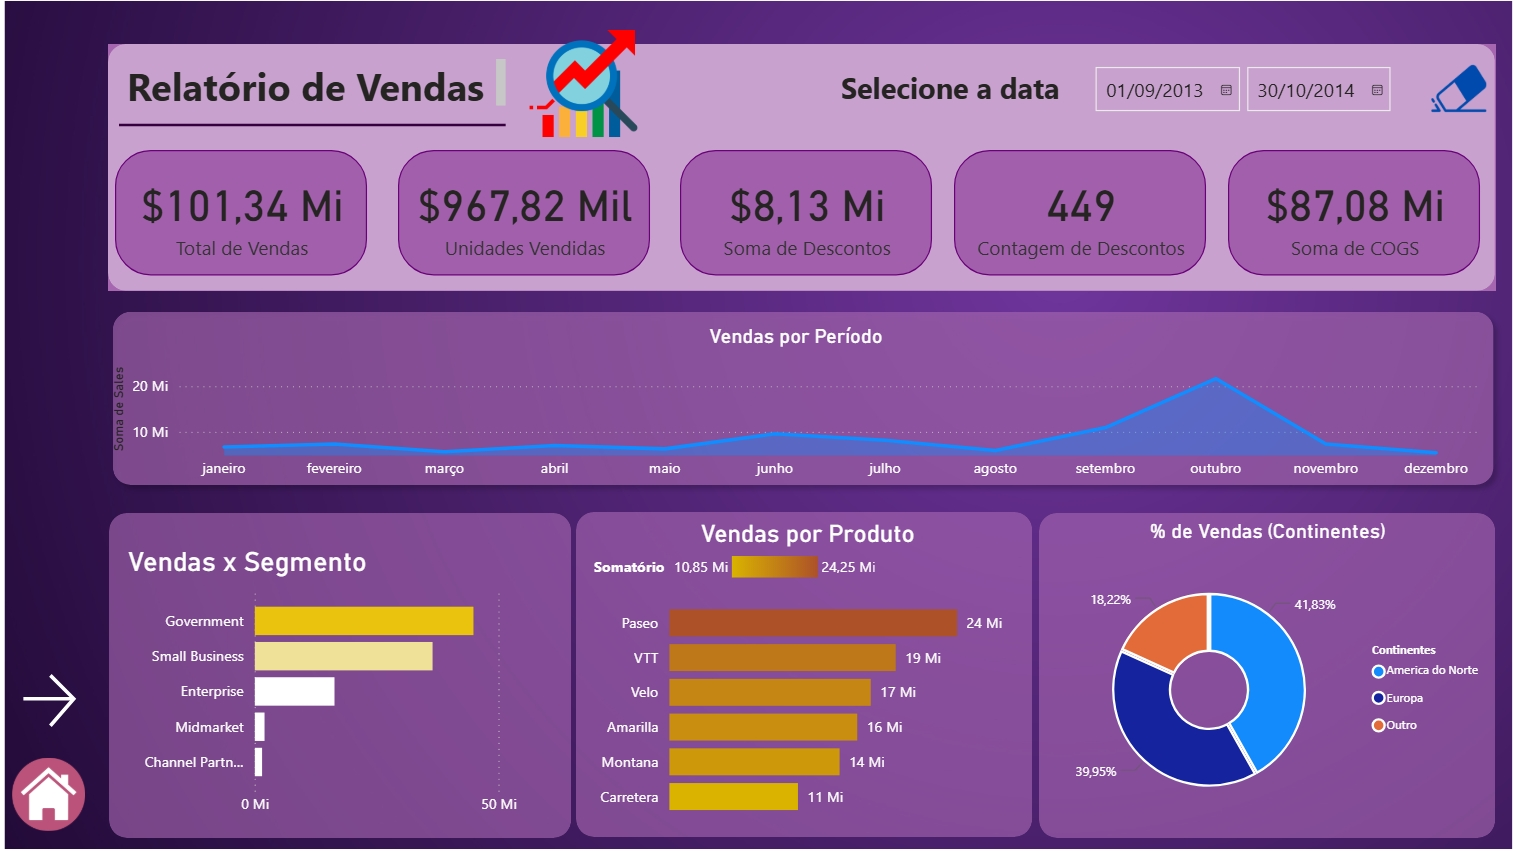

The dashboard page shown, as its layout file describes it:
{"tool":"powerbi","page":{"name":"RV_01","canvas":[1280,720],"ordinal":1},"visuals":[{"type":"image","title":"fundo_purple","box":[0,0,1280.3,720],"z":0},{"type":"shape","box":[95.8,41.1,1161.3,206.6],"z":0,"group":"g2"},{"type":"shape","box":[90,256,1174,163],"z":0,"group":"g1"},{"type":"shape","box":[105,91.8,323.7,33.6],"z":1000,"group":"g2"},{"type":"areaChart","title":"Vendas por Período","fields":{"Category":["financials.Date.Variation.Hierarquia de datas.Trimestre","financials.Date.Variation.Hierarquia de datas.Mês"],"Y":["Sum(financials. Sales)"]},"box":[93.7,275.2,1155.5,139.1],"z":1000,"group":"g1"},{"type":"clusteredBarChart","title":"Vendas x Segmento","fields":{"Category":["financials.Segment"],"Y":["Sum(financials. Sales)"]},"box":[107,461.6,376,234.3],"z":1000,"group":"g3"},{"type":"actionButton","title":"Botão - Next","box":[17.2,562.2,58,56.2],"z":1000},{"type":"slicer","fields":{"Values":["financials.Date"]},"box":[909.9,50.4,272.2,55.6],"z":2000,"group":"g2"},{"type":"shape","box":[487,433,382,272],"z":2000},{"type":"textbox","box":[704.6,56.1,199.6,45.6],"z":3000,"group":"g2"},{"type":"clusteredBarChart","title":"Vendas por Produto","fields":{"Y":["Sum(financials. Sales)"],"Category":["financials.Product"]},"box":[497,439,368,261],"z":3000},{"type":"card","fields":{"Values":["Sum(financials.Units Sold)"]},"box":[338.3,130.2,211,105.5],"z":4000,"group":"g2"},{"type":"group","id":"g1","title":"Perspectiva temporal das vendas","box":[90,256,1174,163],"z":4000},{"type":"group","id":"g2","title":"Filtro por data","box":[95.8,41.1,1161.3,206.6],"z":5000},{"type":"textbox","box":[106.8,48.2,327.4,50.8],"z":5000,"group":"g2"},{"type":"actionButton","box":[1196.4,54.7,59.9,51.3],"z":6000,"group":"g2"},{"type":"shape","box":[96,434,387,272],"z":6000},{"type":"image","box":[440.7,17.2,108.8,112.4],"z":7000},{"type":"card","fields":{"Values":["Count(financials.Discounts)"]},"box":[804.4,130.2,211,105.5],"z":7000,"group":"g2"},{"type":"image","title":"clean","box":[1196.4,50.4,59.9,55.6],"z":8000,"group":"g2"},{"type":"image","box":[9.1,633.9,73.5,70.7],"z":8000},{"type":"card","fields":{"Values":["Sum(financials.Discounts)"]},"box":[574.9,130.2,211,105.5],"z":9000,"group":"g2"},{"type":"group","id":"g3","title":"Sales x Segmento","box":[107,433,376,263],"z":9000},{"type":"shape","box":[875,434,382,272],"z":10000},{"type":"card","fields":{"Values":["Sum(financials.COGS)"]},"box":[1033.9,130.2,211,105.5],"z":11000,"group":"g2"},{"type":"donutChart","title":"% de Vendas (Continentes)","fields":{"Y":["financials.total de vendidos"],"Category":["financials.Continentes"]},"box":[876,439,381,267],"z":11000},{"type":"card","fields":{"Values":["Sum(financials. Sales)"]},"box":[101.7,130.2,211,105.5],"z":12000,"group":"g2"}]}

Visuals, with their boxes in screenshot pixels (x1, y1, x2, y2), scaled from the page's 1280x720 canvas onto the 1513x851 screenshot:
"fundo_purple" image: (0,0,1512,850)
shape: (113,49,1486,293)
shape: (106,303,1494,495)
shape: (124,109,507,148)
"Vendas por Período" areaChart: (111,325,1477,490)
"Vendas x Segmento" clusteredBarChart: (126,546,571,823)
"Botão - Next" actionButton: (20,664,89,731)
slicer - financials.Date: (1076,60,1397,125)
shape: (576,512,1027,833)
textbox: (833,66,1069,120)
"Vendas por Produto" clusteredBarChart: (587,519,1022,827)
card - Sum(financials.Units Sold): (400,154,649,279)
"Perspectiva temporal das vendas" group: (106,303,1494,495)
"Filtro por data" group: (113,49,1486,293)
textbox: (126,57,513,117)
actionButton: (1414,65,1485,125)
shape: (113,513,571,834)
image: (521,20,650,153)
card - Count(financials.Discounts): (951,154,1200,279)
"clean" image: (1414,60,1485,125)
image: (11,749,98,833)
card - Sum(financials.Discounts): (680,154,929,279)
"Sales x Segmento" group: (126,512,571,823)
shape: (1034,513,1486,834)
card - Sum(financials.COGS): (1222,154,1472,279)
"% de Vendas (Continentes)" donutChart: (1035,519,1486,834)
card - Sum(financials. Sales): (120,154,370,279)
